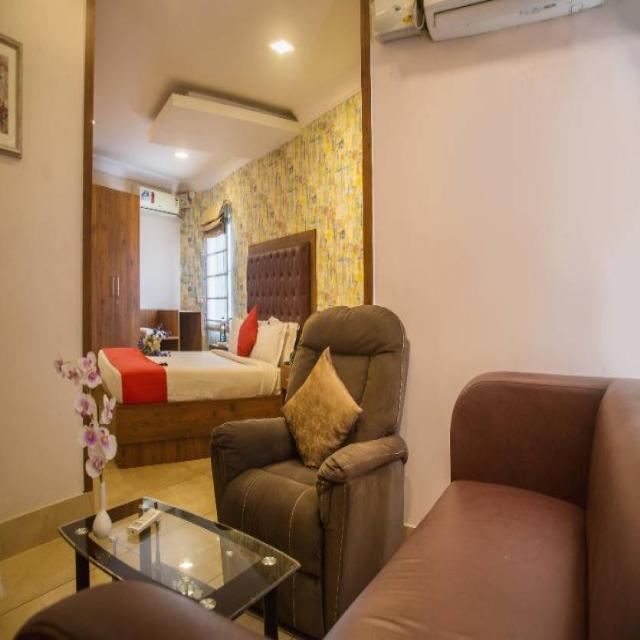bed: (96, 227, 316, 468)
sofa: (323, 370, 639, 639), (210, 302, 410, 638)
